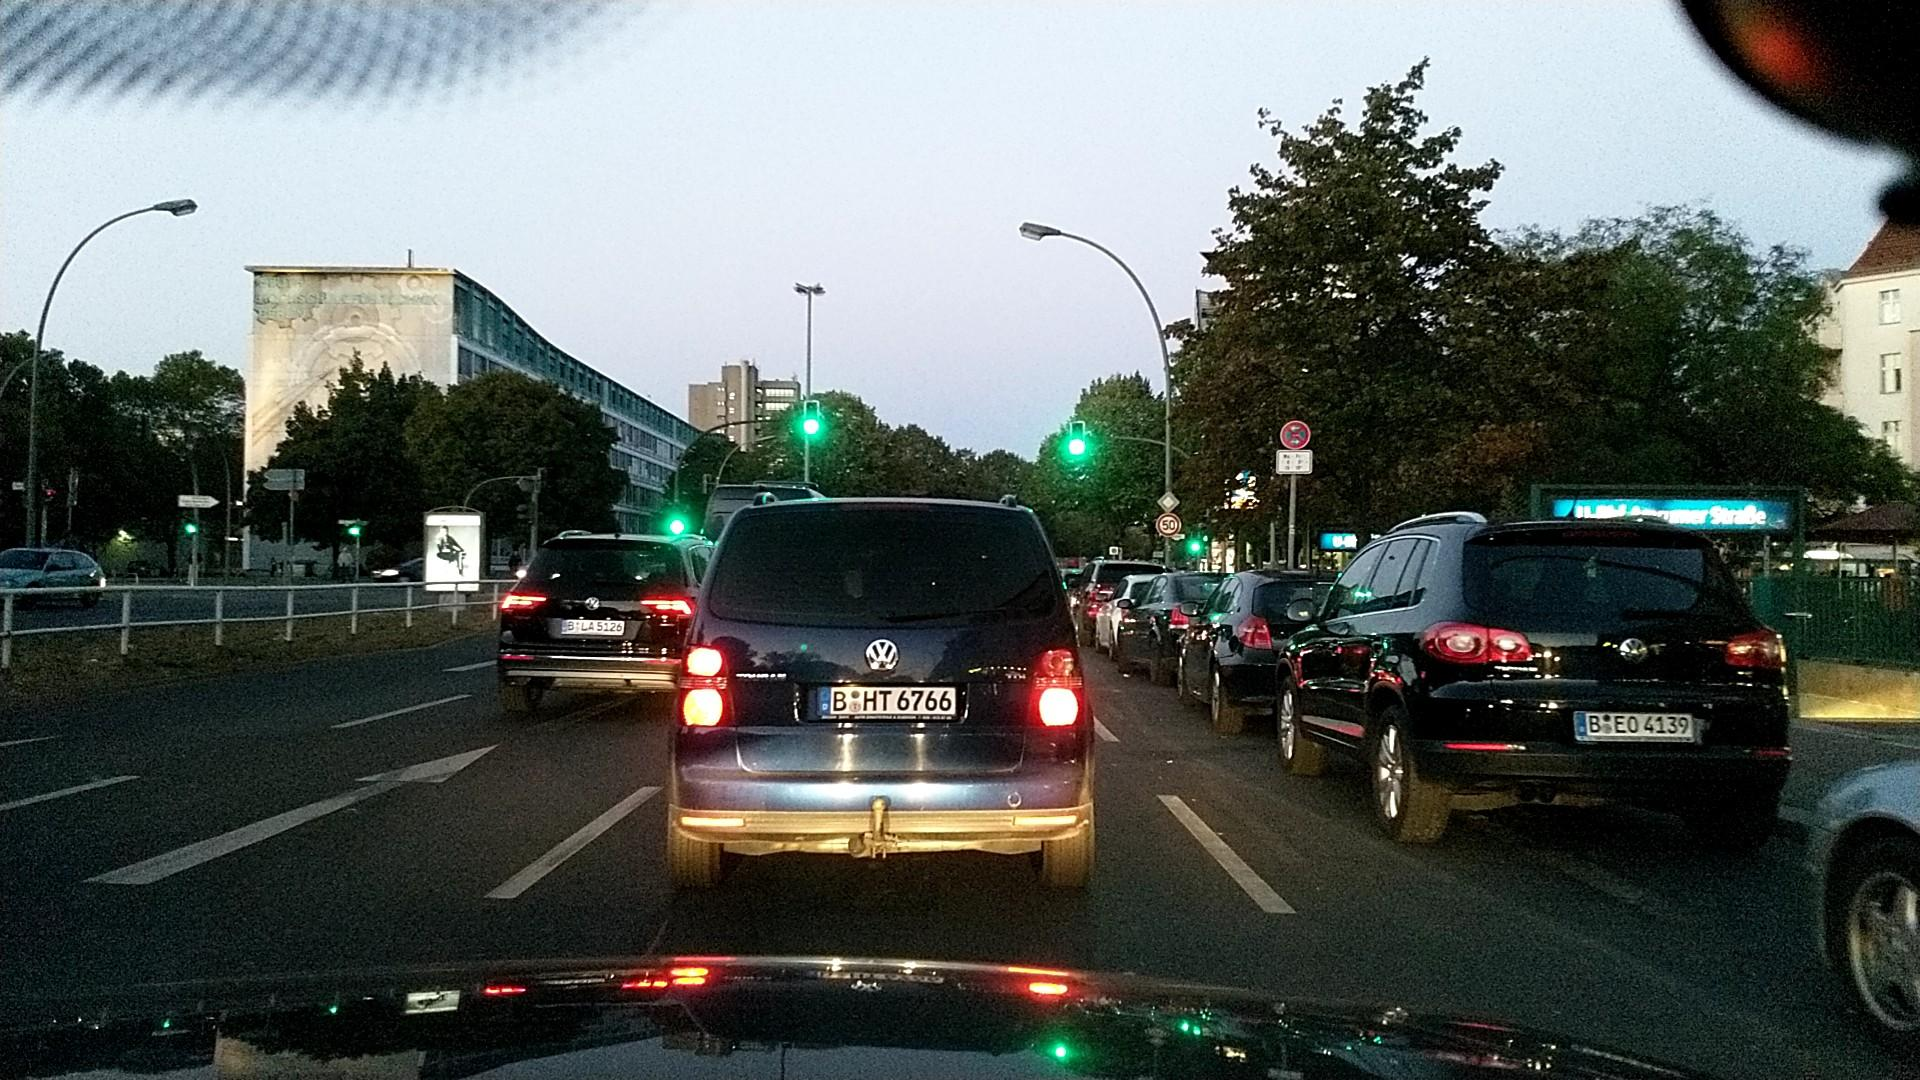Vehicle registration plate: (819, 686, 958, 723), (1570, 708, 1699, 742), (559, 617, 626, 635)
